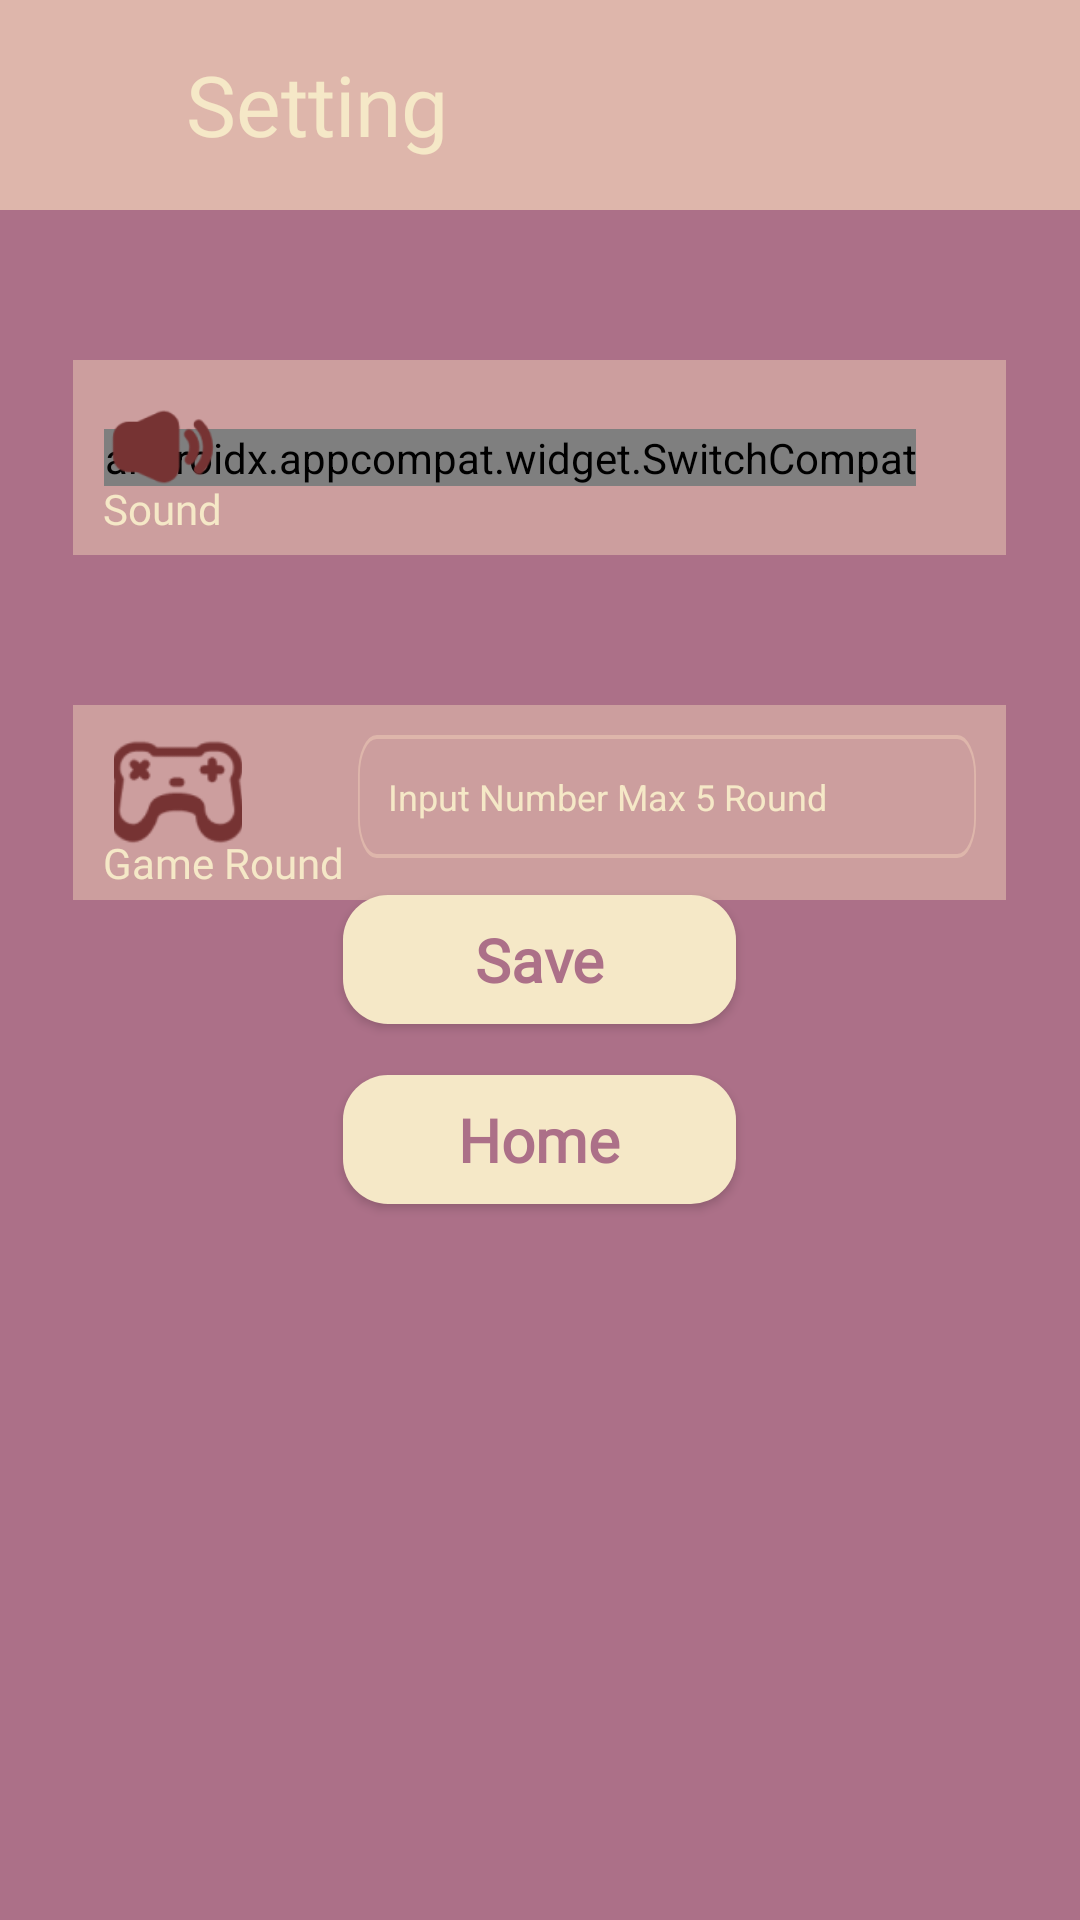

Screen size 1080 × 1920. Icon name, then its center in pixels as (x=x, y=y):
game stick: (x=178, y=792)
